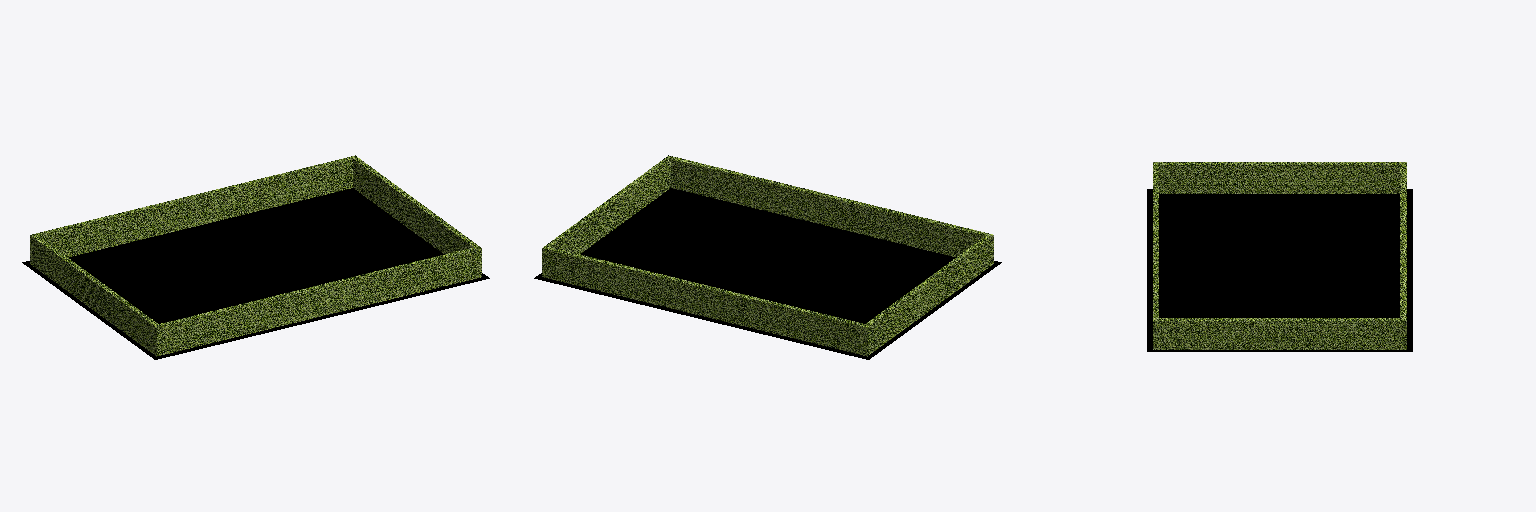
The picture shows the model from 3 angles: view 1: azimuth 30°, elevation 25°; view 2: azimuth 150°, elevation 25°; view 3: azimuth 270°, elevation 25°; orthographic projection.
Visible parts, largest first — view 1: pPlane1, pCube1, pCube2, pCube3, pCube4; view 2: pPlane1, pCube2, pCube1, pCube3, pCube4; view 3: pPlane1, pCube4, pCube3, pCube2, pCube1.
Part boxes in pixels (x1,y1,x2,y2): pPlane1: (22,188,489,359); pCube1: (159,247,479,354); pCube2: (30,156,355,265); pCube3: (33,236,161,356); pCube4: (351,155,481,277); pPlane1: (534,188,1001,359); pCube2: (544,246,870,356); pCube1: (669,156,988,256); pCube3: (866,234,993,353); pCube4: (542,155,670,276); pPlane1: (1147,189,1412,351); pCube4: (1153,318,1406,349); pCube3: (1153,162,1399,193); pCube2: (1400,162,1406,319); pCube1: (1153,165,1158,319).
Size of the model in its own units: 91.6 by 7.57 by 63.2.
Materials: 2 (1 with a texture image).